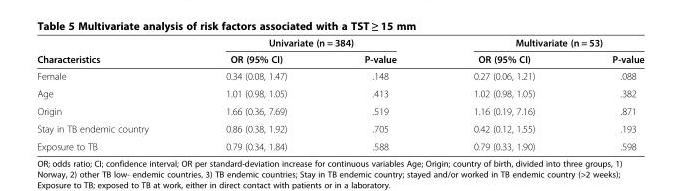table: (36, 36, 643, 151)
table column: (36, 36, 186, 151), (186, 36, 325, 151), (434, 36, 572, 151), (325, 36, 434, 151), (572, 36, 643, 151)
table column header: (36, 36, 643, 67)
table row: (36, 84, 643, 102), (36, 119, 643, 137), (36, 50, 643, 67), (36, 67, 643, 84), (36, 102, 643, 119), (36, 36, 643, 50), (36, 137, 643, 151)
table spanning cell: (36, 36, 186, 67), (186, 36, 434, 50), (434, 36, 643, 50)
